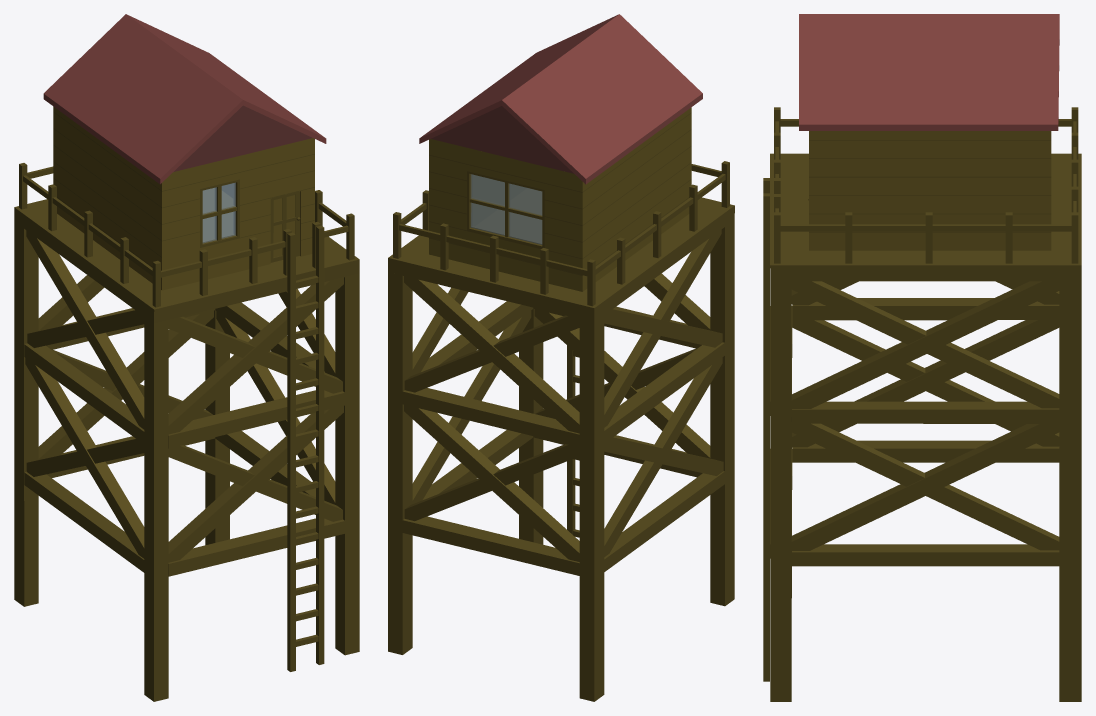
Rendered from lookout.fbx.
3 renders of one model, left to right at view 1: azimuth 30°, elevation 25°; view 2: azimuth 150°, elevation 25°; view 3: azimuth 270°, elevation 25°, orthographic. The views are drawn at different scales.
Parts seen in each view (by area): view 1: Cube.001; view 2: Cube.001; view 3: Cube.001.
Part boxes in pixels (<box>): Cube.001: <box>14,14,359,701</box>; Cube.001: <box>388,14,734,701</box>; Cube.001: <box>763,14,1081,701</box>.
Size of the model in its own units: 1679 by 4433 by 2021.
